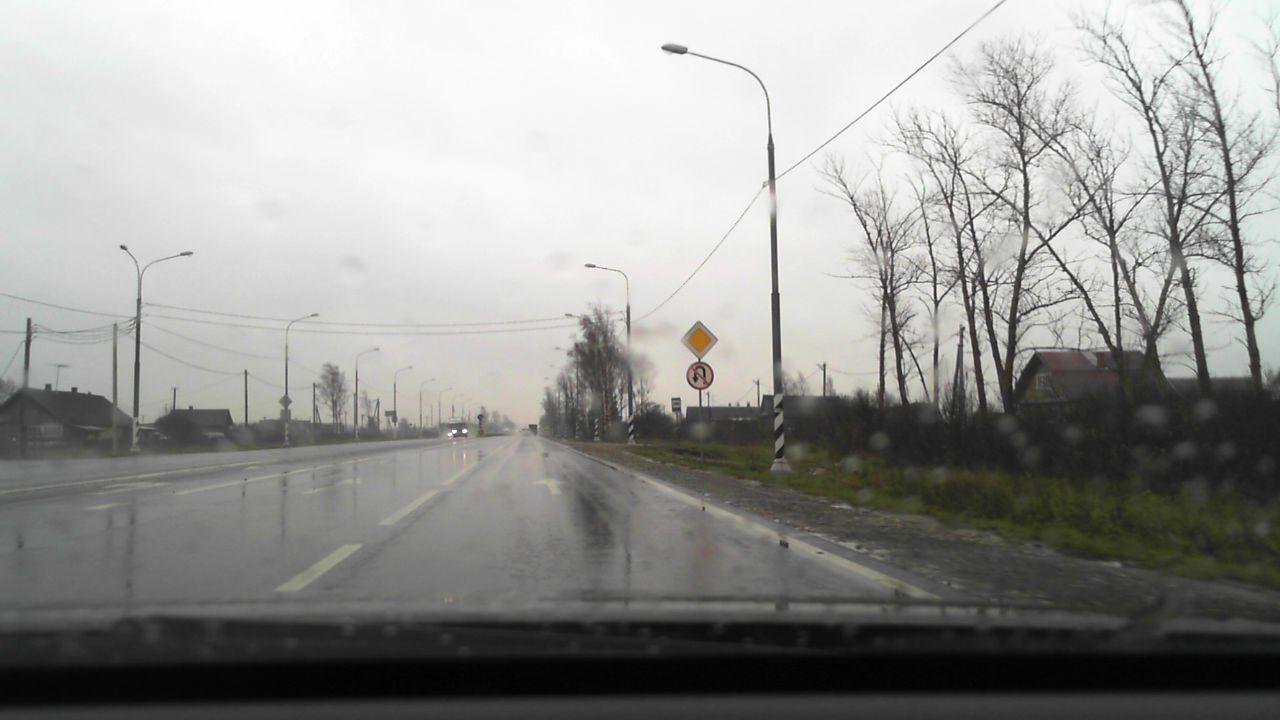2_1: (677, 322, 719, 355)
3_19: (686, 361, 714, 389)
5_16: (669, 398, 683, 413)
